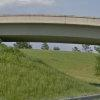Bridge: (4, 5, 99, 57)
